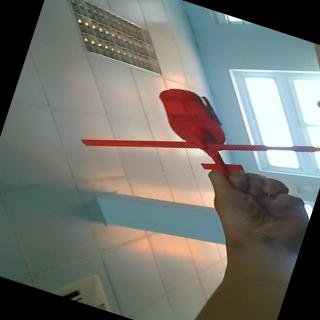Helicopter: (78, 62, 304, 206)
